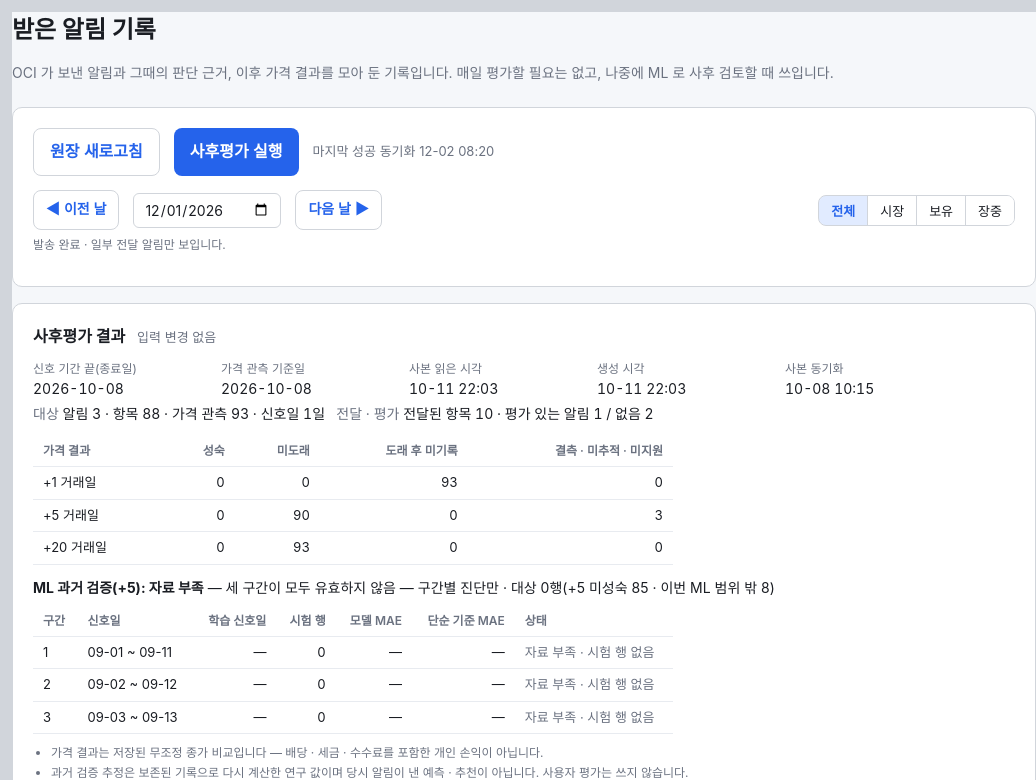
Test case: POC5-08 사후평가 — [사후평가 실행] › 산출물을 못 만든 실행은 그 상태 문구(성공처럼 보이지 않음)
Expected: the element with test id "retro-ml" is shown, [33,578,775,596]
Click the button "사후평가 실행": point(236, 152) [174,128,299,176]
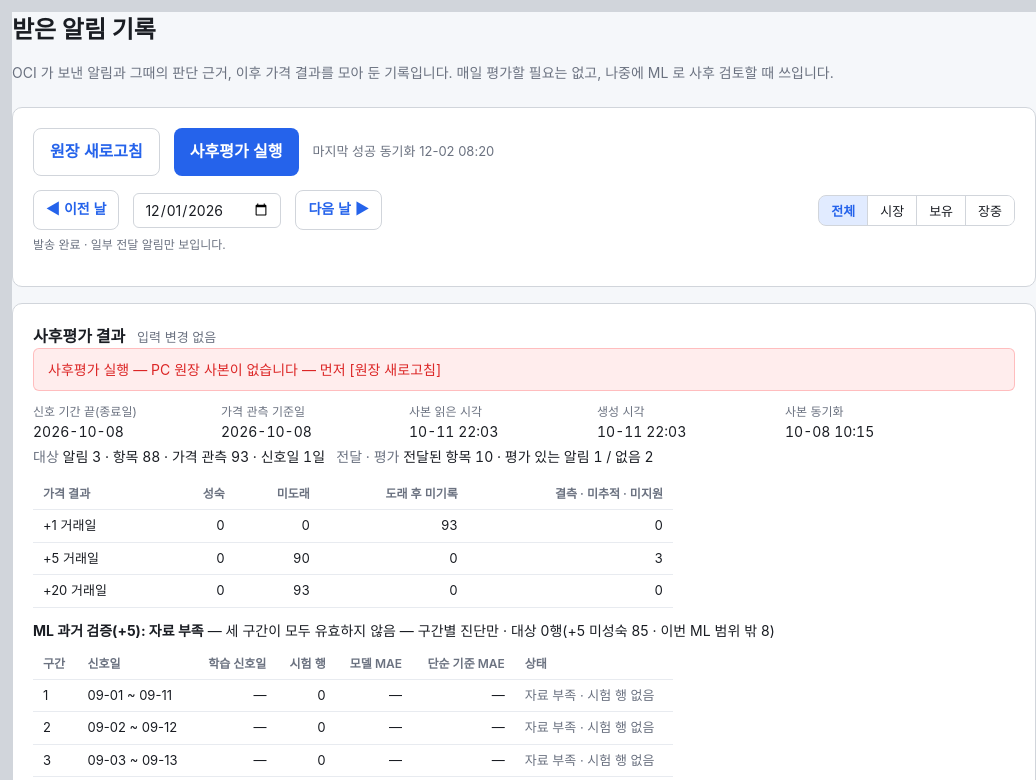
Result: the text "사후평가 실행 — PC 원장 사본이 없습니다 — 먼저 [원장 새로고침]" is shown at [33,348,1015,391]
